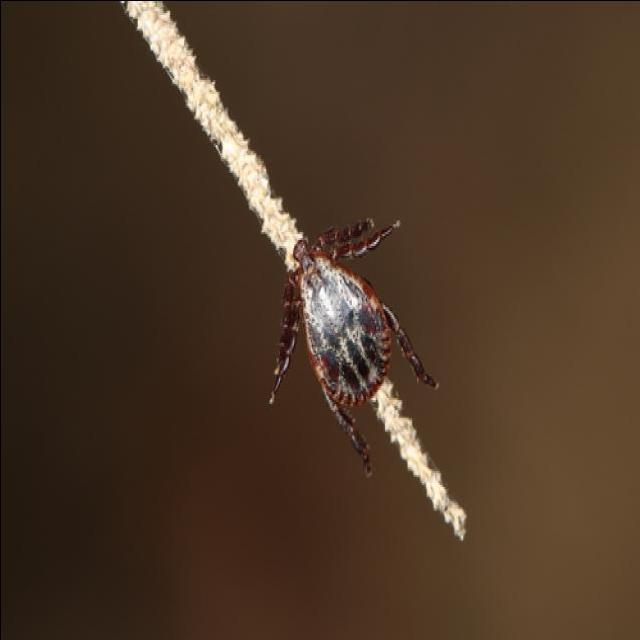Dermacentor Reticulatus-M: (269, 215, 438, 476)
